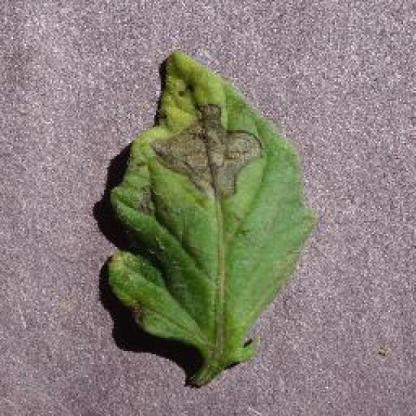Tomato_Blight: (105, 51, 313, 367)
